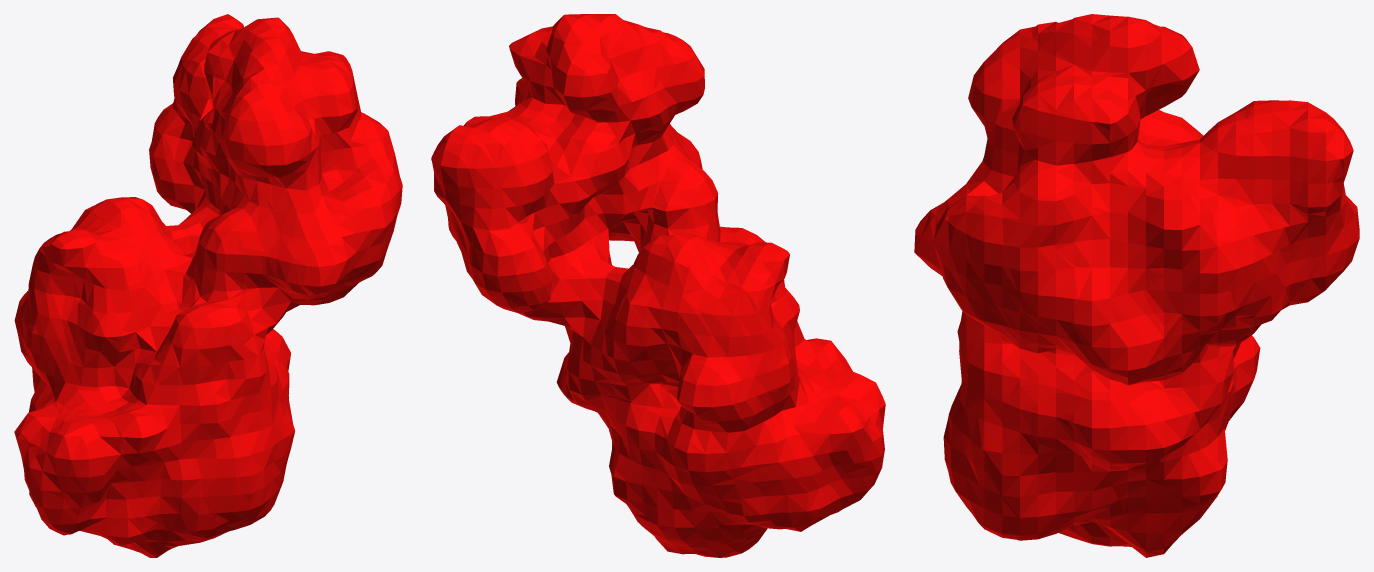
File: ppsA_coarse.dae
The picture shows the model from 3 angles, left to right: view 1: azimuth 30°, elevation 25°; view 2: azimuth 150°, elevation 25°; view 3: azimuth 270°, elevation 25°; orthographic projection. The views are drawn at different scales.
Parts seen in each view (by area): view 1: ppsA; view 2: ppsA; view 3: ppsA.
Part boxes in pixels (x1,y1,x2,y2): ppsA: (14, 14, 402, 557); ppsA: (431, 14, 885, 557); ppsA: (914, 14, 1359, 557).
Bounding box in the file's own units: 85.95 × 108 × 71.59.
